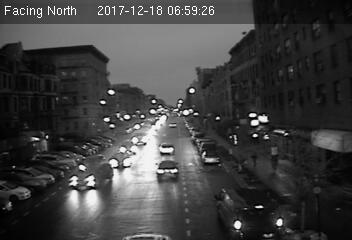car: (67, 162, 114, 190), (155, 160, 181, 181), (109, 150, 134, 171), (200, 150, 222, 166), (118, 140, 139, 153), (157, 143, 176, 157)
